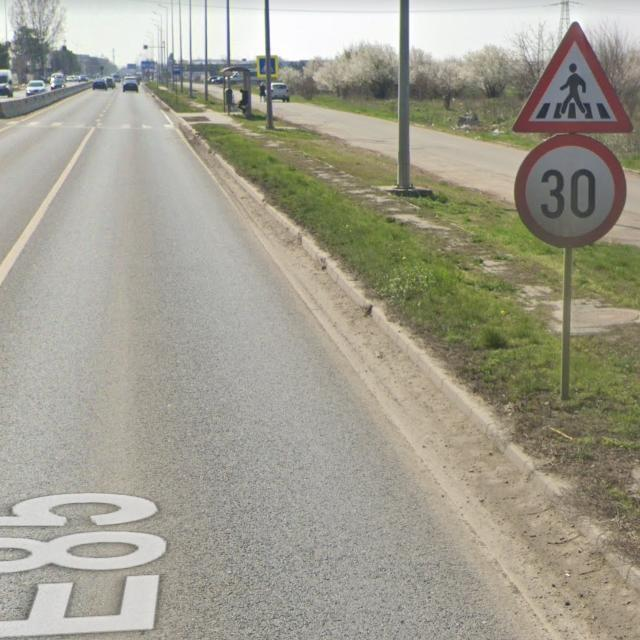forb_speed_over_30: (517, 136, 628, 252)
warn_crosswalk: (513, 23, 634, 133)
